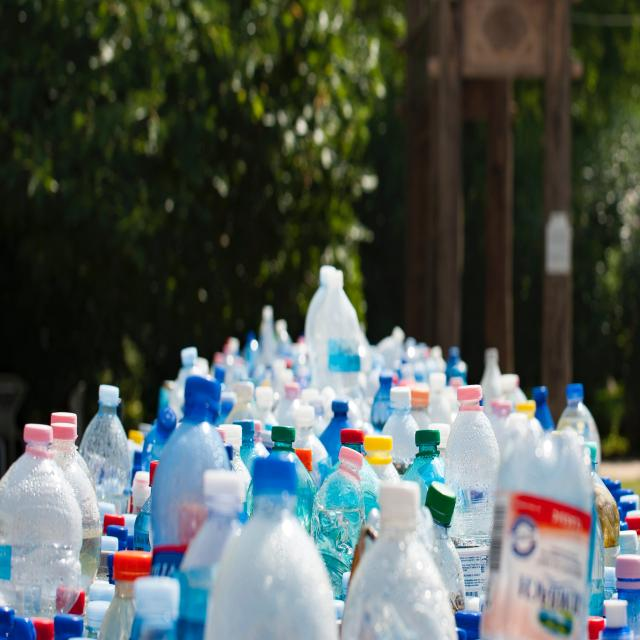plastic: (179, 341, 477, 586)
